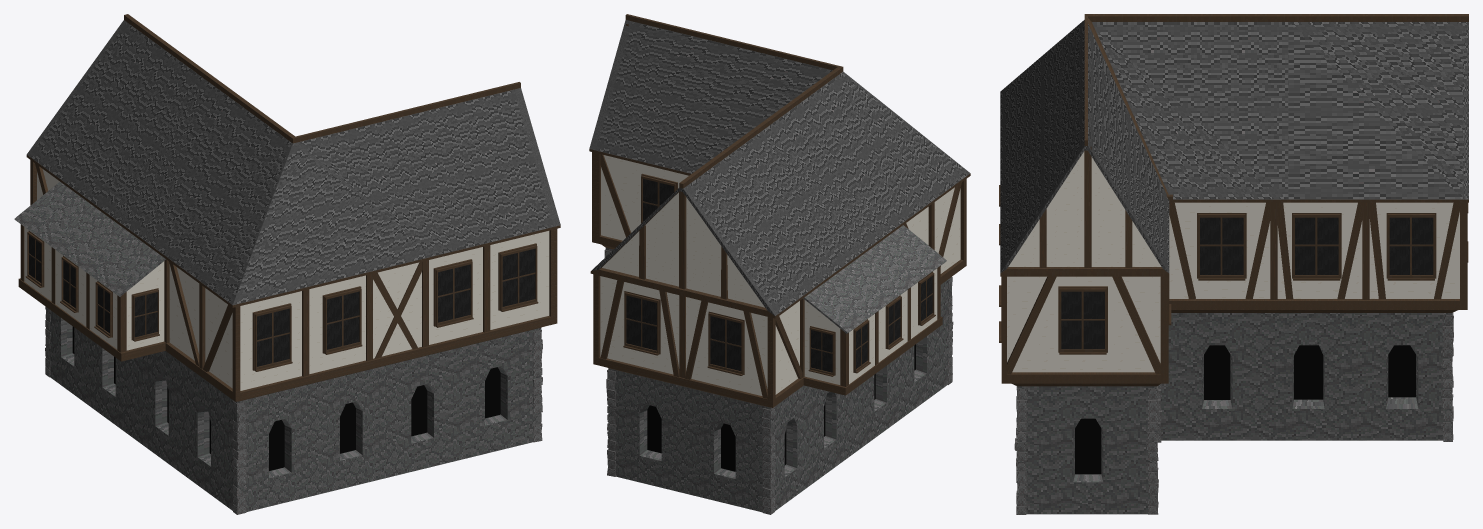
The model's file is MedievalHouse01.fbx.
3 renders of one model, left to right at view 1: azimuth 30°, elevation 25°; view 2: azimuth 150°, elevation 25°; view 3: azimuth 270°, elevation 25°, orthographic. The views are drawn at different scales.
Visible parts, largest first — view 1: Cube.005; view 2: Cube.005; view 3: Cube.005.
Part boxes in pixels (x1,y1,x2,y2): Cube.005: [14, 14, 560, 514]; Cube.005: [589, 14, 970, 514]; Cube.005: [999, 14, 1468, 514].
Size of the model in its own units: 1043 by 894 by 1002.
